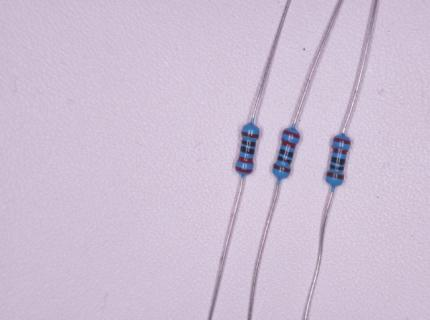Red band: (281, 139, 296, 149), (283, 130, 300, 138), (334, 137, 351, 145), (235, 166, 253, 173), (237, 156, 253, 163), (333, 148, 348, 155)
